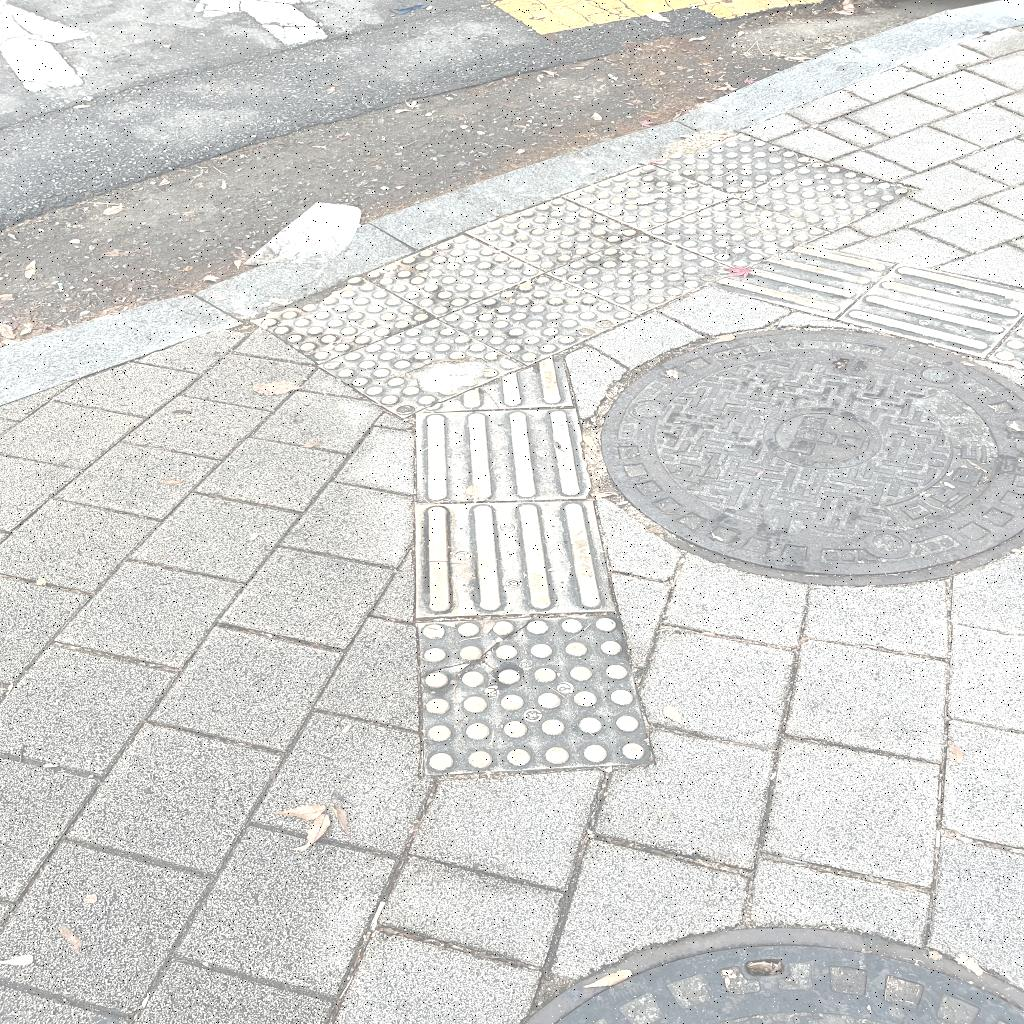Stop block broken: (319, 290, 525, 442)
Stop block normal: (439, 245, 636, 390), (645, 174, 829, 294), (466, 173, 642, 293)
Straight block normal: (413, 499, 614, 617)
